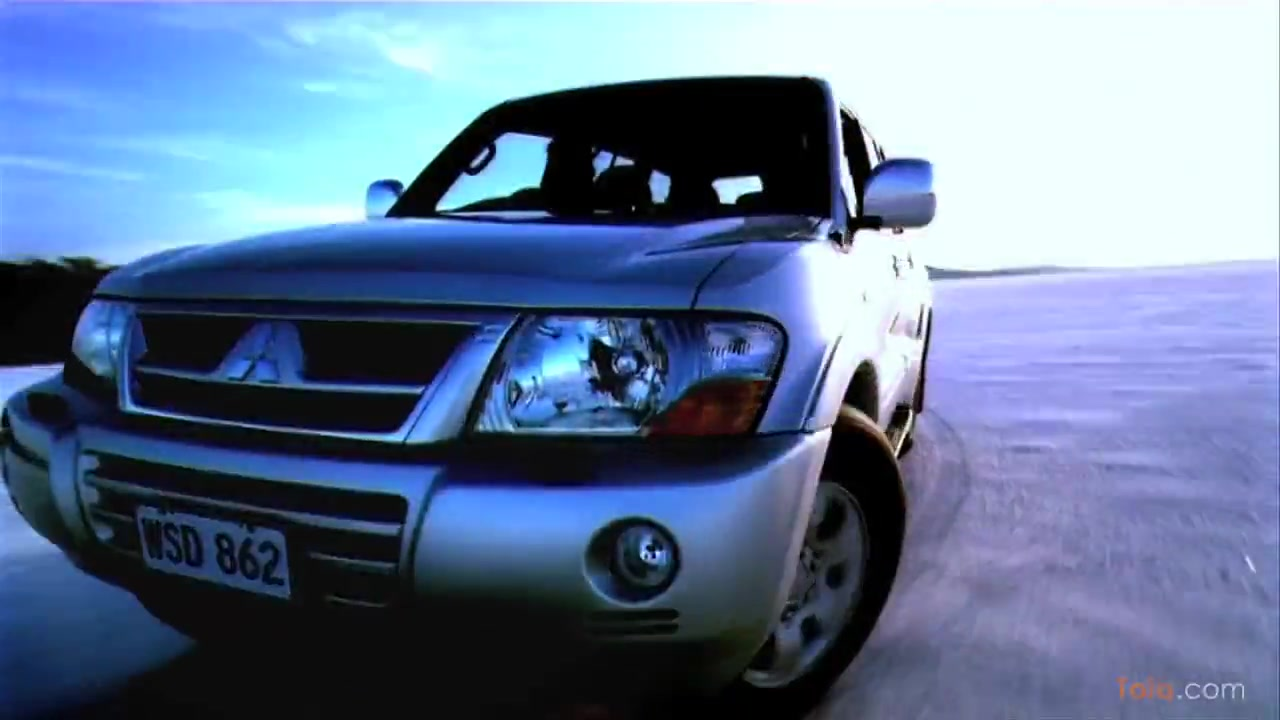car: (5, 73, 937, 716)
